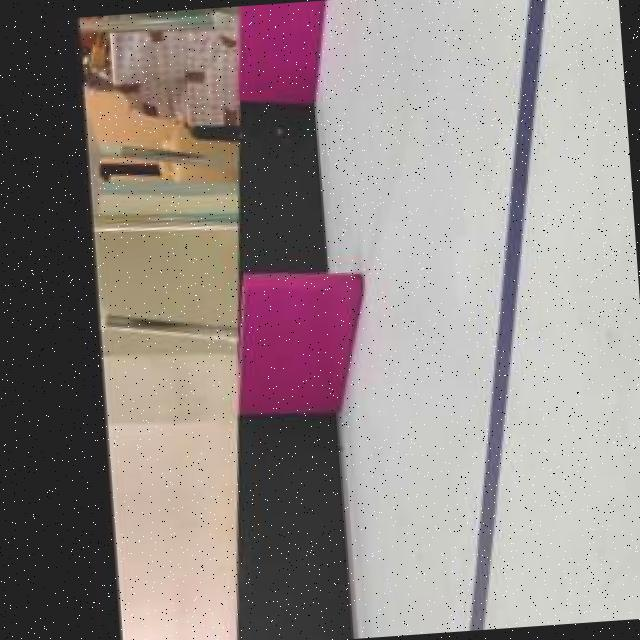xparking: (240, 273, 369, 407), (235, 0, 326, 99)
